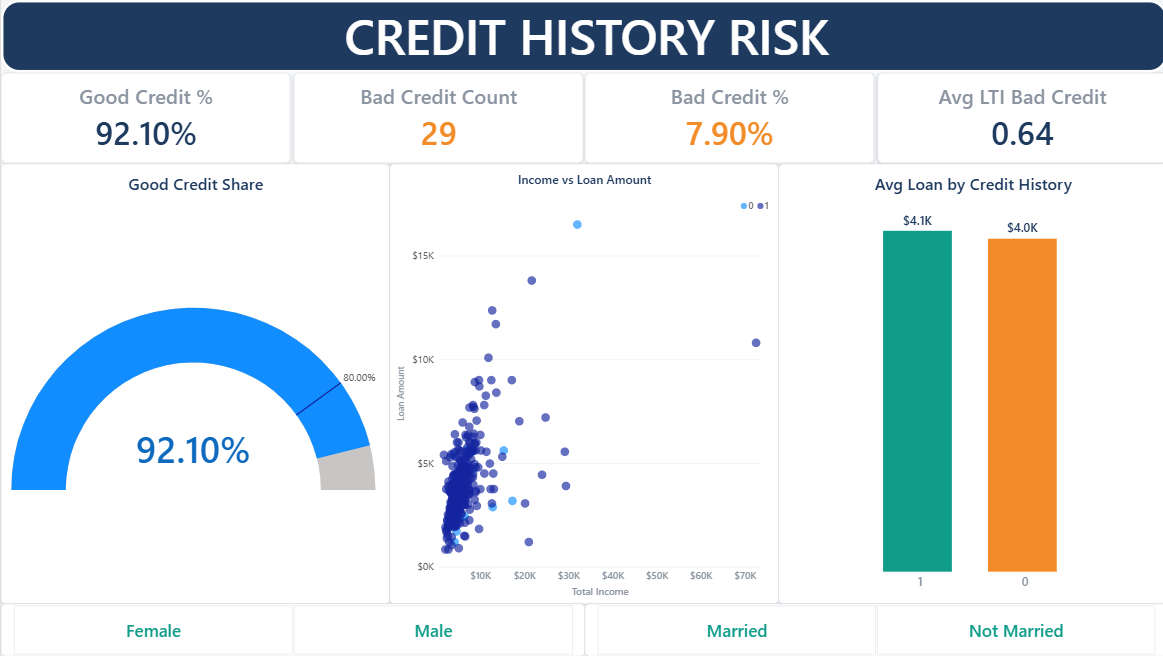

This screenshot's page, from the dashboard's own definition file:
{"tool":"powerbi","page":{"name":"Credit History Risk","canvas":[1920,1080],"ordinal":2},"visuals":[{"type":"cardVisual","fields":{"Data":["Loan_Application_Analysis_367.Good Credit %"]},"box":[0,119.4,477.5,150.3],"z":1000},{"type":"cardVisual","fields":{"Data":["Loan_Application_Analysis_367.Good Credit %"]},"box":[1442.9,119.4,477.5,150.3],"z":2000},{"type":"cardVisual","fields":{"Data":["Loan_Application_Analysis_367.Bad Credit Count"]},"box":[480.8,119.4,477.5,150.3],"z":3000},{"type":"cardVisual","fields":{"Data":["Loan_Application_Analysis_367.Avg LTI Bad Credit"]},"box":[1442.5,119.4,477.5,150.3],"z":4000},{"type":"cardVisual","fields":{"Data":["Loan_Application_Analysis_367.Bad Credit %"]},"box":[961.6,119.4,477.5,150.3],"z":5000},{"type":"gauge","title":"Good Credit Share","fields":{"Y":["Loan_Application_Analysis_367.Good Credit %"]},"box":[0,269.6,640.1,724.5],"z":6000},{"type":"clusteredColumnChart","title":"Avg Loan by Credit History","fields":{"Category":["Loan_Application_Analysis_367.Credit_History"],"Y":["Loan_Application_Analysis_367.Avg Loan"]},"box":[1279.9,269.6,640.1,724.5],"z":7000},{"type":"scatterChart","title":"Income vs Loan Amount ","fields":{"Series":["Loan_Application_Analysis_367.Credit_History"],"X":["Loan_Application_Analysis_367. Total_Income "],"Y":["Loan_Application_Analysis_367. Loan_Amount "]},"box":[640.1,269.6,640.1,724.5],"z":8000},{"type":"slicer","fields":{"Values":["Loan_Application_Analysis_367.Gender"]},"box":[0,994.2,961.2,86.4],"z":8001},{"type":"slicer","title":"MARRIED","fields":{"Values":["Loan_Application_Analysis_367.Marital Status"]},"box":[961.2,994.2,959.2,86.4],"z":8002},{"type":"textbox","title":"CREDIT HISTORY RISK","box":[0,0,1920.4,119.4],"z":8003}]}

Visuals, with their boxes in screenshot pixels (x1, y1, x2, y2), scaled from the page's 1920x1080 canvas onto the 1163x656 screenshot:
cardVisual - Loan_Application_Analysis_367.Good Credit %: [0, 73, 289, 164]
cardVisual - Loan_Application_Analysis_367.Good Credit %: [874, 73, 1162, 164]
cardVisual - Loan_Application_Analysis_367.Bad Credit Count: [291, 73, 580, 164]
cardVisual - Loan_Application_Analysis_367.Avg LTI Bad Credit: [874, 73, 1162, 164]
cardVisual - Loan_Application_Analysis_367.Bad Credit %: [582, 73, 872, 164]
"Good Credit Share" gauge: [0, 164, 388, 604]
"Avg Loan by Credit History" clusteredColumnChart: [775, 164, 1162, 604]
"Income vs Loan Amount " scatterChart: [388, 164, 775, 604]
slicer - Loan_Application_Analysis_367.Gender: [0, 604, 582, 655]
"MARRIED" slicer: [582, 604, 1162, 655]
"CREDIT HISTORY RISK" textbox: [0, 0, 1162, 73]
